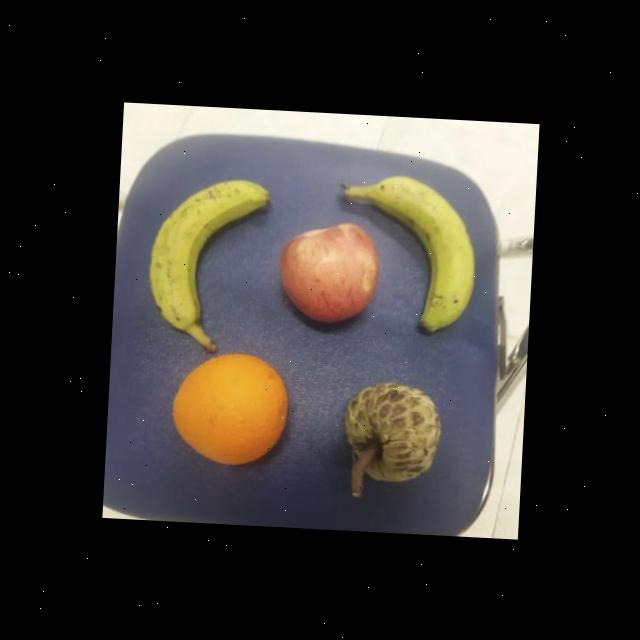Sakya fruit: (341, 378, 442, 482)
apple: (276, 218, 379, 324)
banana: (332, 170, 478, 332), (143, 174, 270, 354)
orange: (168, 350, 289, 468)
